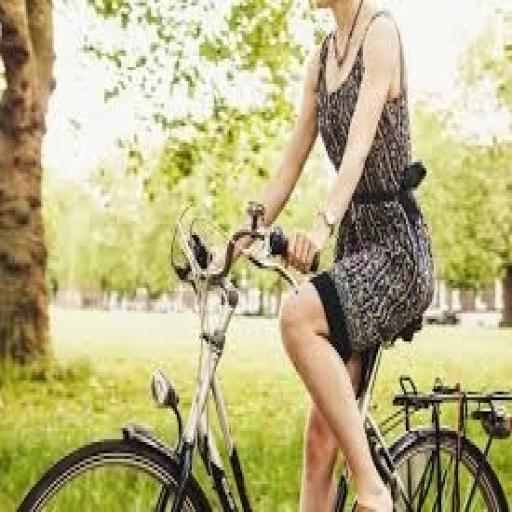cycling: (236, 0, 438, 509)
